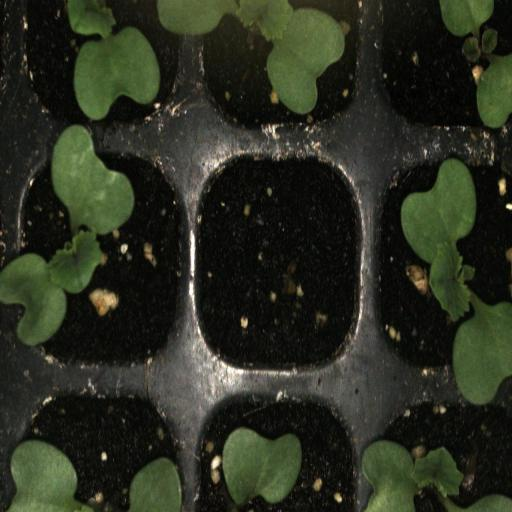Folha: (66, 0, 160, 121), (7, 440, 99, 512), (222, 427, 302, 505), (129, 457, 184, 512), (439, 0, 497, 51), (476, 54, 512, 129)
Germinacao: (5, 139, 193, 375), (370, 145, 512, 386), (192, 0, 374, 142), (374, 382, 512, 512)
